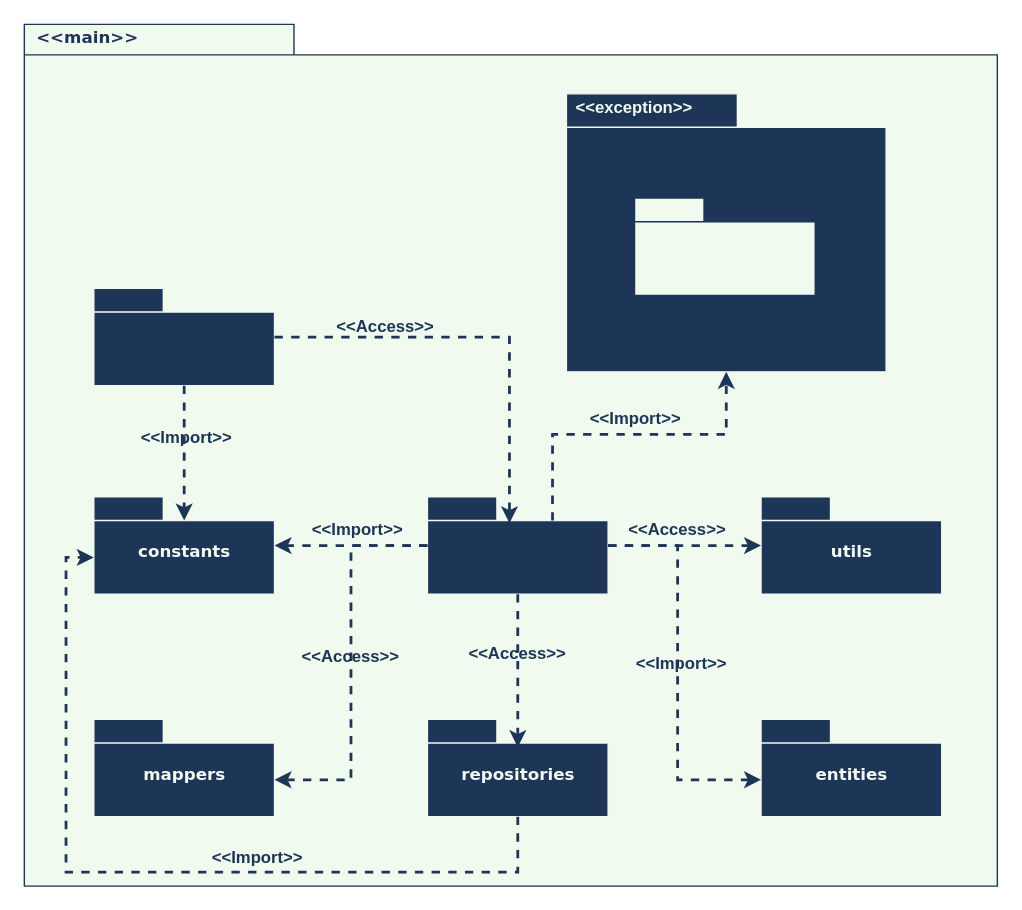
The diagram is 1022 pixels wide and 910 high, and some of its shapes have lost their labels. Here are the shapes that lost their labels. From the top down, the centre of each, then its label:
At point (724, 246): "handler".
At point (183, 336): "controllers".
At point (517, 545): "services".
